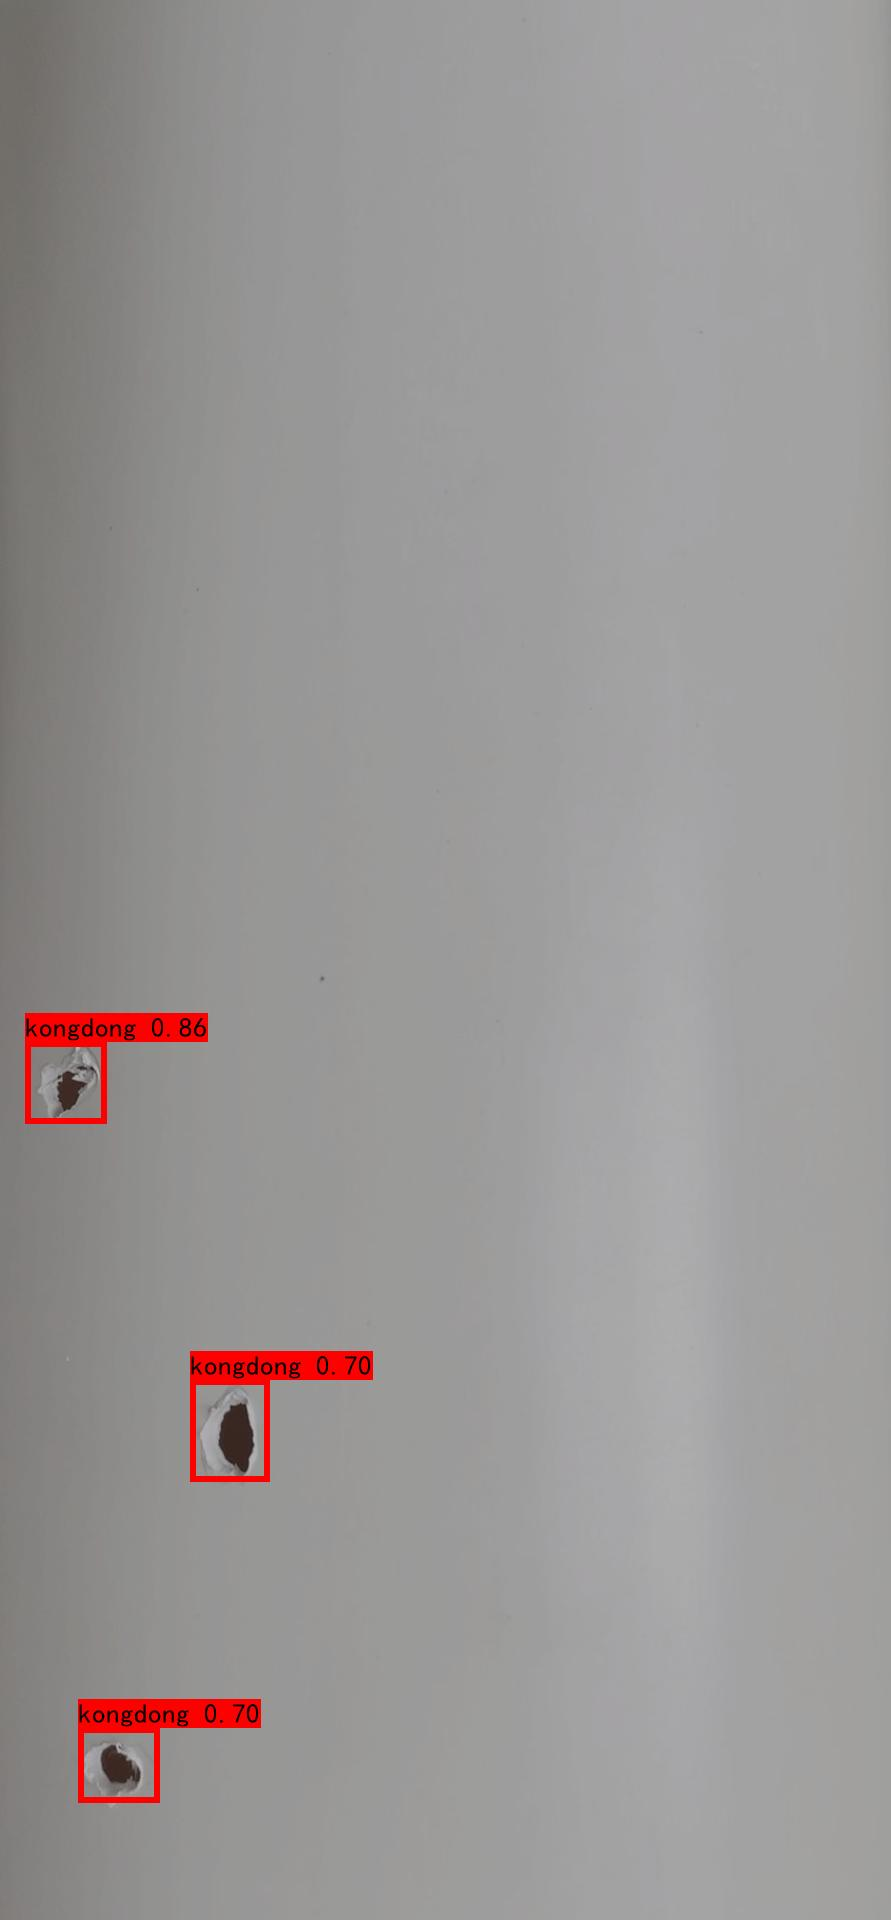kongdong: (193, 1379, 281, 1495), (27, 1047, 102, 1136), (81, 1738, 154, 1804)
